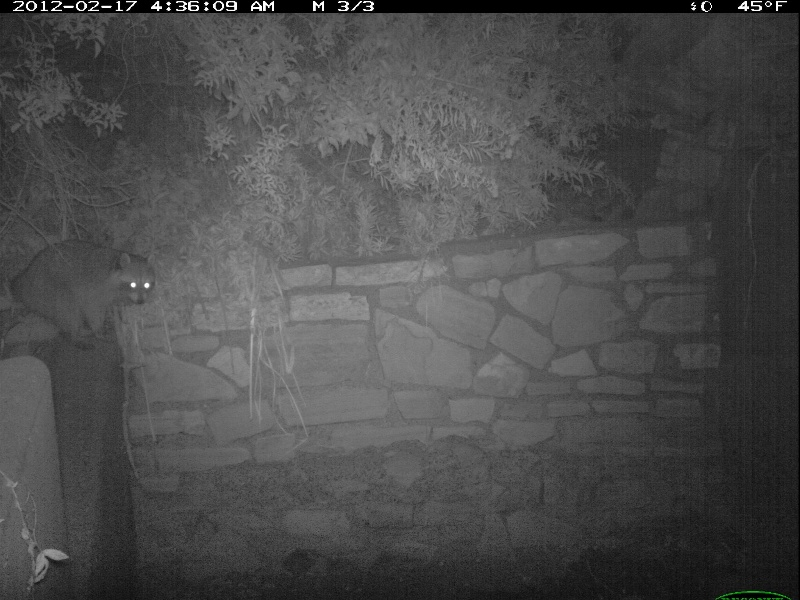raccoon: (11, 234, 156, 359)
